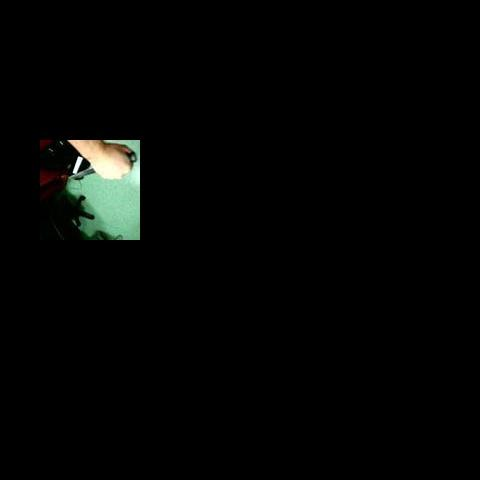knife: (68, 150, 138, 180)
